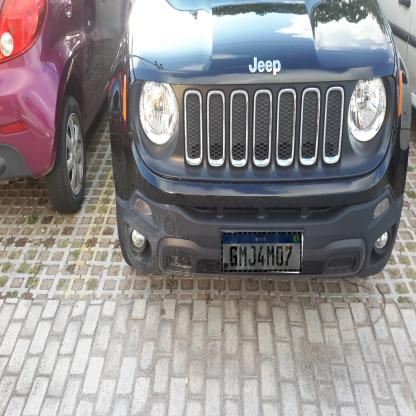PlacaM: (221, 232, 302, 272)
